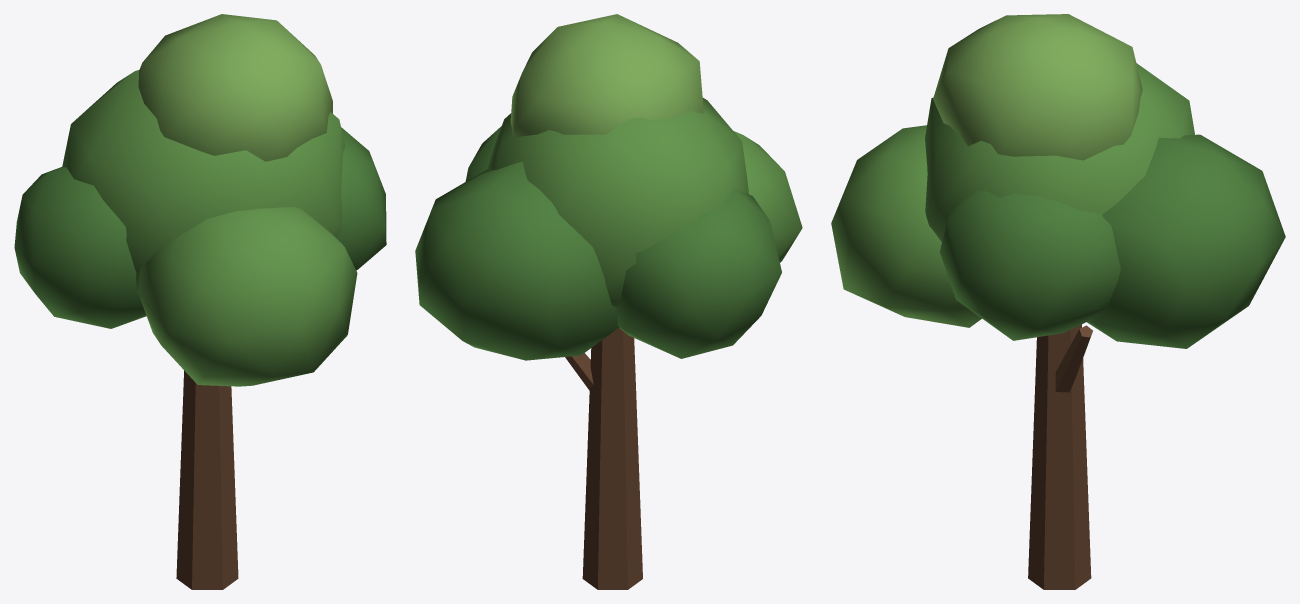
Rendered from Tree_Round_A.fbx.
3 renders of one model, left to right at view 1: azimuth 30°, elevation 25°; view 2: azimuth 150°, elevation 25°; view 3: azimuth 270°, elevation 25°, orthographic. The views are drawn at different scales.
Parts seen in each view (by area): view 1: Tree_Round_A; view 2: Tree_Round_A; view 3: Tree_Round_A.
Boxes of the visible parts, x1,y1,x2,y2 form: Tree_Round_A: [14, 14, 386, 589]; Tree_Round_A: [415, 14, 802, 589]; Tree_Round_A: [831, 14, 1285, 589].
Size of the model in its own units: 1.83 by 2.98 by 2.16.
